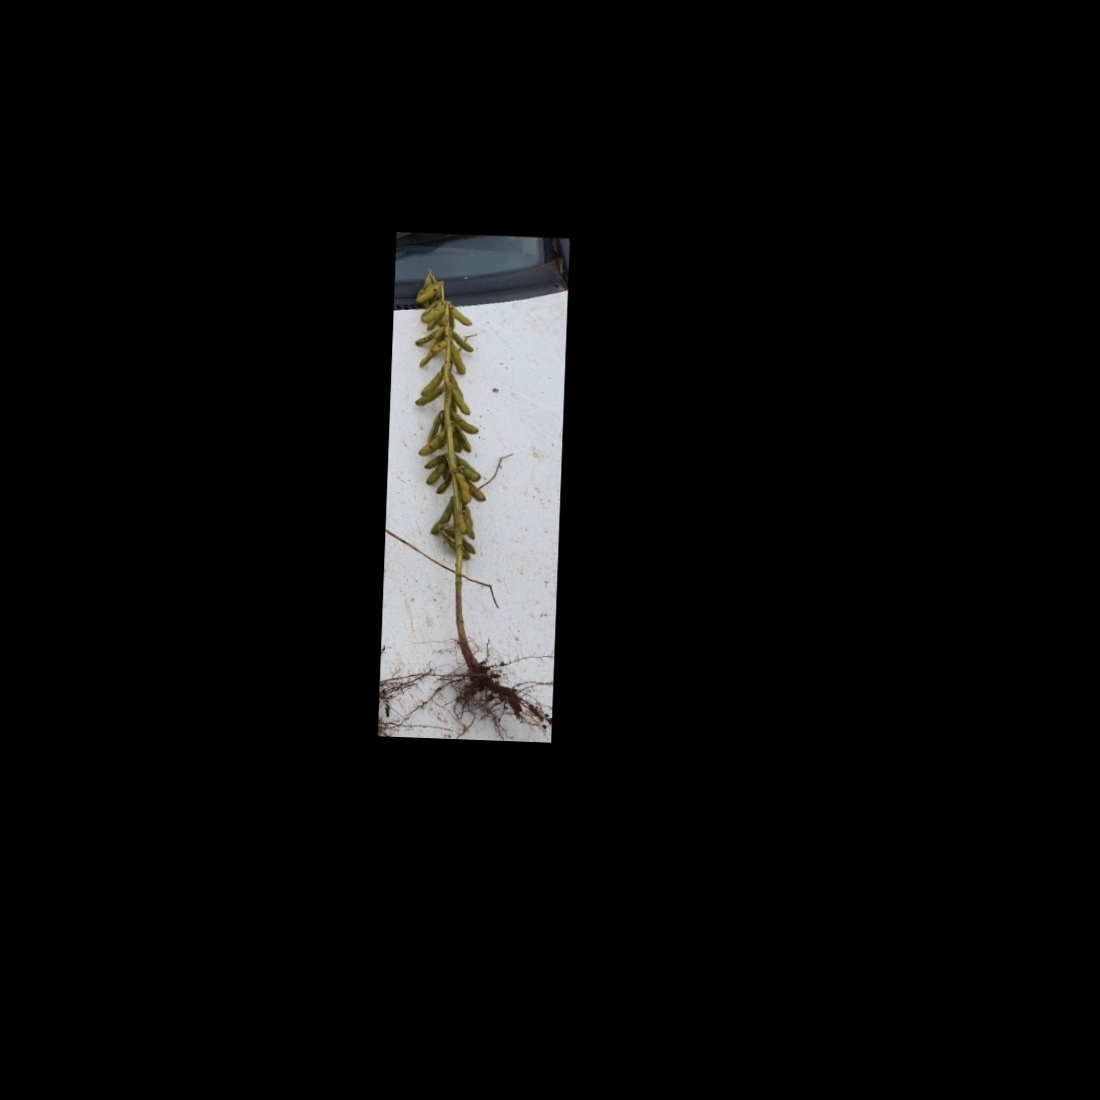pod: (428, 495, 452, 536), (447, 343, 468, 379), (449, 305, 477, 327), (450, 389, 472, 416), (452, 471, 471, 503), (435, 473, 453, 496)
soy: (382, 262, 543, 716)
